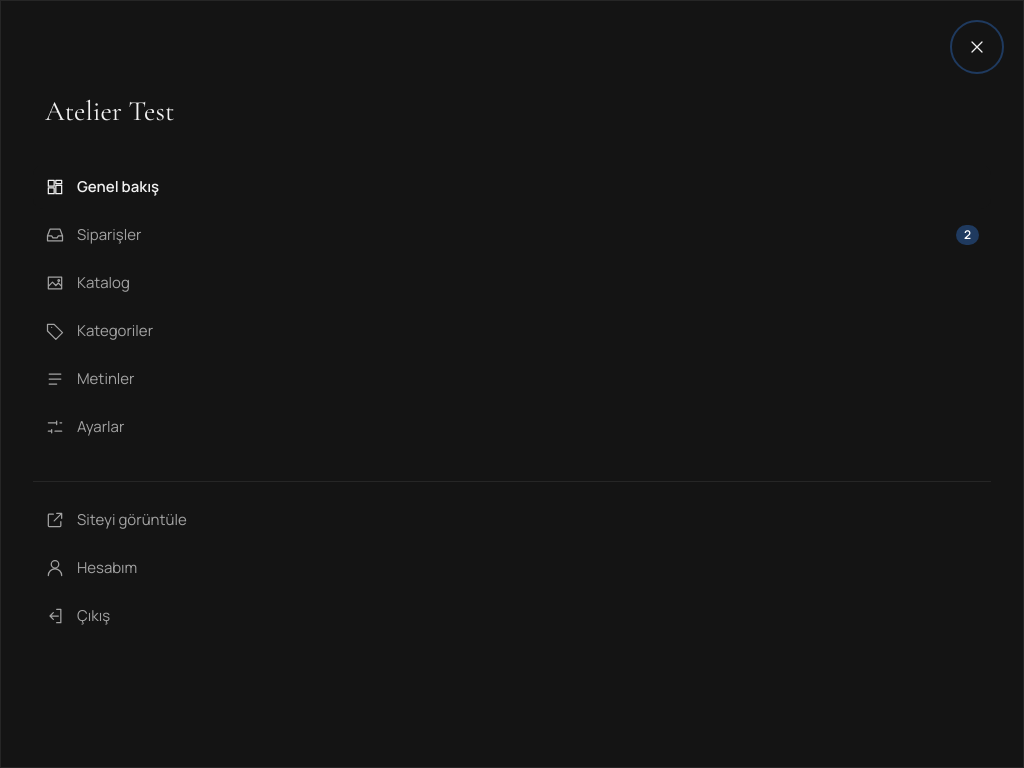
Test: dashboard layout › opens the menu as a sheet on small screens
Earlier steps of the test are not shown.
Step 1. Click the link "Siparişler 2" → (109, 234), box [45,224,979,245]
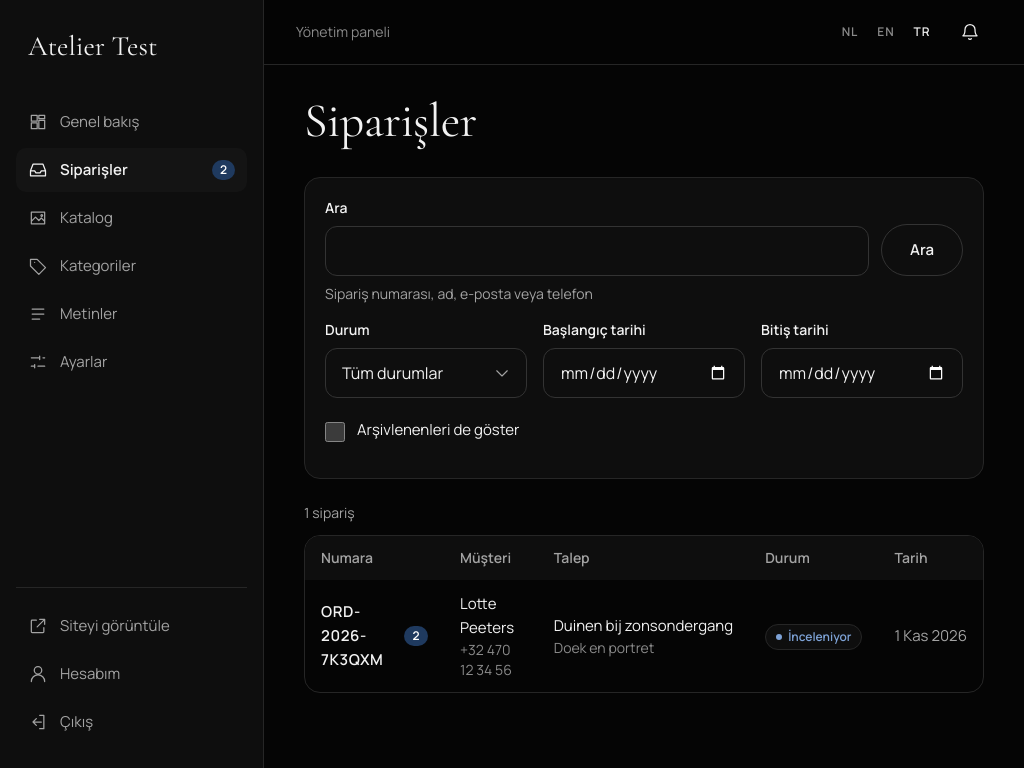
Now the heading "Siparişler" is shown, box [304,97,477,145]
Now the dialog is gone
